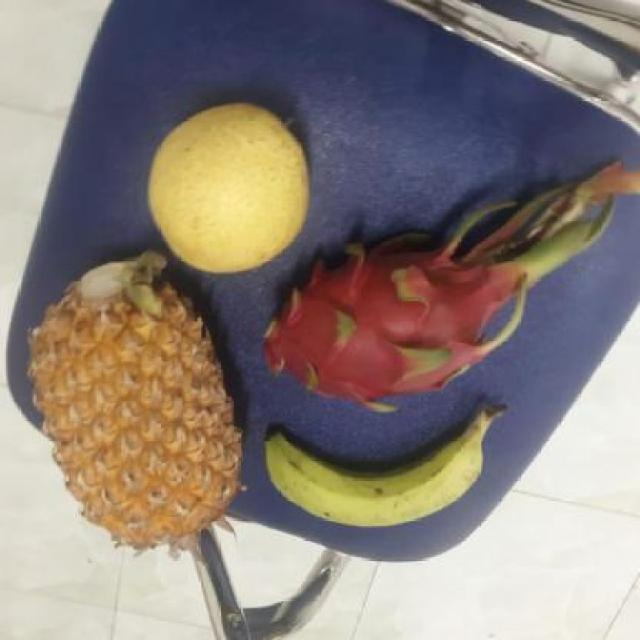banana: (256, 398, 492, 522)
dragon fruit: (243, 248, 508, 407)
guava: (136, 104, 313, 275)
pineapple: (25, 256, 242, 549)
